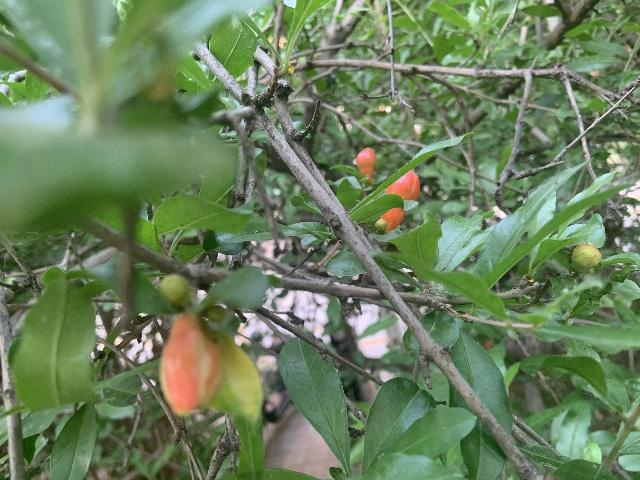bud: (159, 313, 219, 416), (380, 170, 420, 231), (571, 243, 601, 272), (355, 146, 376, 182), (374, 218, 387, 233)
